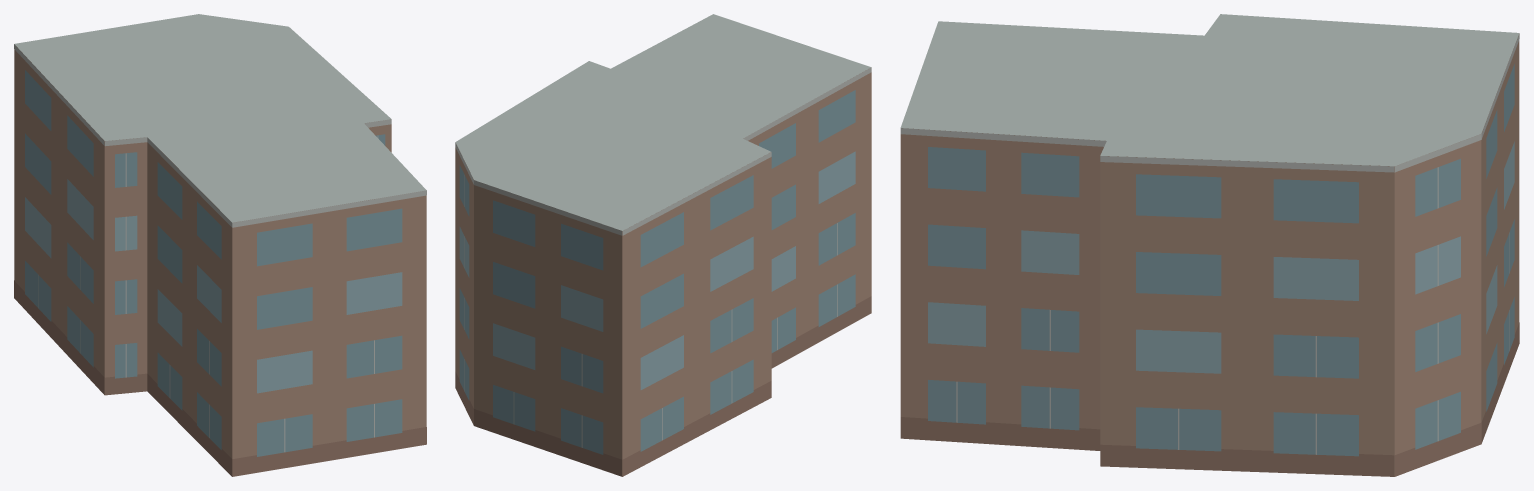
Rendered from survey-upis-32883970.glb.
The picture shows the model from 3 angles, left to right: view 1: azimuth 30°, elevation 25°; view 2: azimuth 150°, elevation 25°; view 3: azimuth 270°, elevation 25°; orthographic projection. The views are drawn at different scales.
Parts seen in each view (by area): view 1: survey-upis-32883970.tmp; view 2: survey-upis-32883970.tmp; view 3: survey-upis-32883970.tmp.
Boxes of the visible parts, x1=… form: survey-upis-32883970.tmp: x1=14, y1=14, x2=426, y2=476; survey-upis-32883970.tmp: x1=455, y1=14, x2=871, y2=476; survey-upis-32883970.tmp: x1=900, y1=14, x2=1519, y2=476.
Size of the model in its own units: 12.84 by 12.2 by 22.05.
